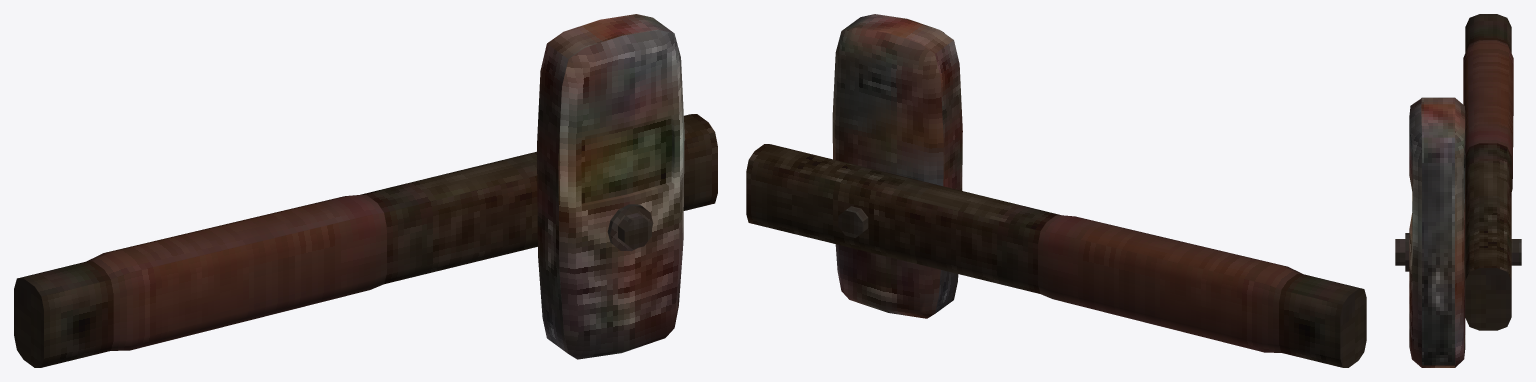
File: shop-item-1025.glb
3 renders of one model, left to right at view 1: azimuth 30°, elevation 25°; view 2: azimuth 150°, elevation 25°; view 3: azimuth 270°, elevation 25°, orthographic. The views are drawn at different scales.
Parts seen in each view (by area): view 1: cell_phone_hammer_mx_1; view 2: cell_phone_hammer_mx_1; view 3: cell_phone_hammer_mx_1.
Part boxes in pixels (x1,y1,x2,y2): cell_phone_hammer_mx_1: (14, 14, 717, 367); cell_phone_hammer_mx_1: (746, 14, 1366, 367); cell_phone_hammer_mx_1: (1395, 14, 1521, 367).
Size of the model in its own units: 0.468 by 0.2106 by 0.0986.
Materials: 1 (1 with a texture image).
